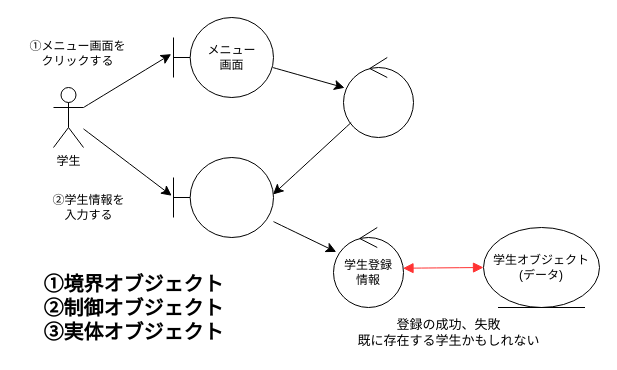
Some shapes in this 617 by 370 pixel diagram are drawn without their labels. Each missing label, with the box of its shape:
学生登録 画面: (172, 156, 274, 238)
表示 (する): (342, 56, 414, 138)
